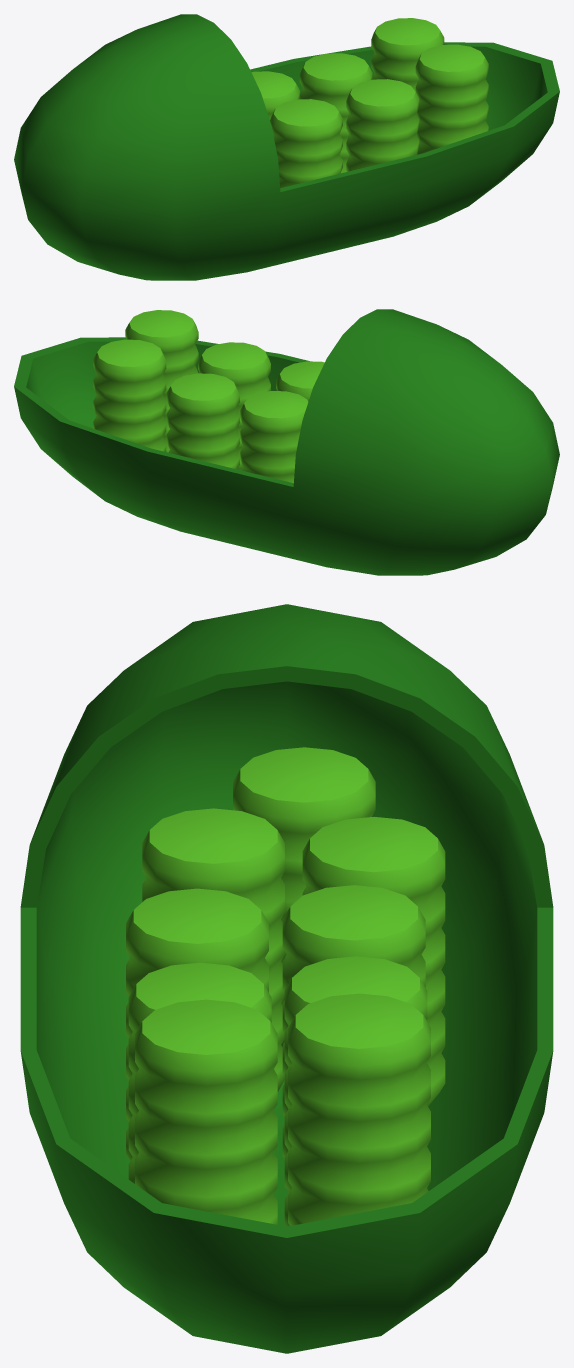
The model's file is Chloroplast.obj.
3 views of the same model, one above another, from view 1: azimuth 30°, elevation 25°; view 2: azimuth 150°, elevation 25°; view 3: azimuth 270°, elevation 25° (orthographic). The views are drawn at different scales.
Parts seen in each view (by area): view 1: Chloroplast OuterMembrane, Chloroplast Thylakoid7, Chloroplast Thylakoid5, Chloroplast Thylakoid3, Chloroplast Thylakoid8, Chloroplast Thylakoid6, Chloroplast Thylakoid4; view 2: Chloroplast OuterMembrane, Chloroplast Thylakoid8, Chloroplast Thylakoid6, Chloroplast Thylakoid4, Chloroplast Thylakoid7, Chloroplast Thylakoid5, Chloroplast Thylakoid3; view 3: Chloroplast OuterMembrane, Chloroplast Thylakoid8, Chloroplast Thylakoid7, Chloroplast Thylakoid2, Chloroplast Thylakoid1, Thylakoid Chloroplast, Chloroplast Thylakoid3, Chloroplast Thylakoid4, Chloroplast Thylakoid5, Chloroplast Thylakoid6.
Boxes of the visible parts, bbox=[...] form: Chloroplast OuterMembrane: bbox=[14, 14, 559, 280]; Chloroplast Thylakoid7: bbox=[415, 44, 488, 154]; Chloroplast Thylakoid5: bbox=[346, 79, 419, 171]; Chloroplast Thylakoid3: bbox=[270, 99, 342, 188]; Chloroplast Thylakoid8: bbox=[371, 18, 444, 91]; Chloroplast Thylakoid6: bbox=[299, 53, 372, 173]; Chloroplast Thylakoid4: bbox=[251, 71, 299, 119]; Chloroplast OuterMembrane: bbox=[14, 309, 559, 575]; Chloroplast Thylakoid8: bbox=[93, 339, 166, 451]; Chloroplast Thylakoid6: bbox=[167, 373, 239, 469]; Chloroplast Thylakoid4: bbox=[240, 391, 308, 483]; Chloroplast Thylakoid7: bbox=[125, 310, 198, 452]; Chloroplast Thylakoid5: bbox=[198, 342, 270, 470]; Chloroplast Thylakoid3: bbox=[276, 361, 324, 401]; Chloroplast OuterMembrane: bbox=[20, 604, 553, 1353]; Chloroplast Thylakoid8: bbox=[288, 993, 430, 1225]; Chloroplast Thylakoid7: bbox=[135, 999, 277, 1224]; Chloroplast Thylakoid2: bbox=[142, 808, 284, 1091]; Chloroplast Thylakoid1: bbox=[302, 817, 445, 1106]; Thylakoid Chloroplast: bbox=[233, 747, 375, 1046]; Chloroplast Thylakoid3: bbox=[126, 888, 268, 1160]; Chloroplast Thylakoid4: bbox=[282, 885, 425, 1158]; Chloroplast Thylakoid5: bbox=[128, 962, 271, 1183]; Chloroplast Thylakoid6: bbox=[284, 956, 427, 1226].
Bounding box in the file's own units: 69.03 × 30 × 30.
